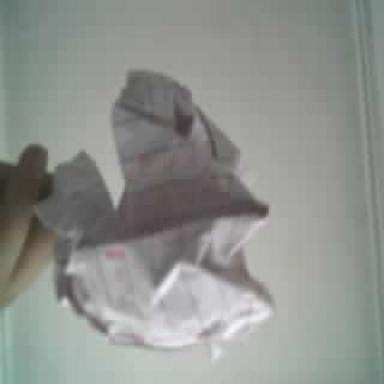paper: (36, 72, 270, 349)
